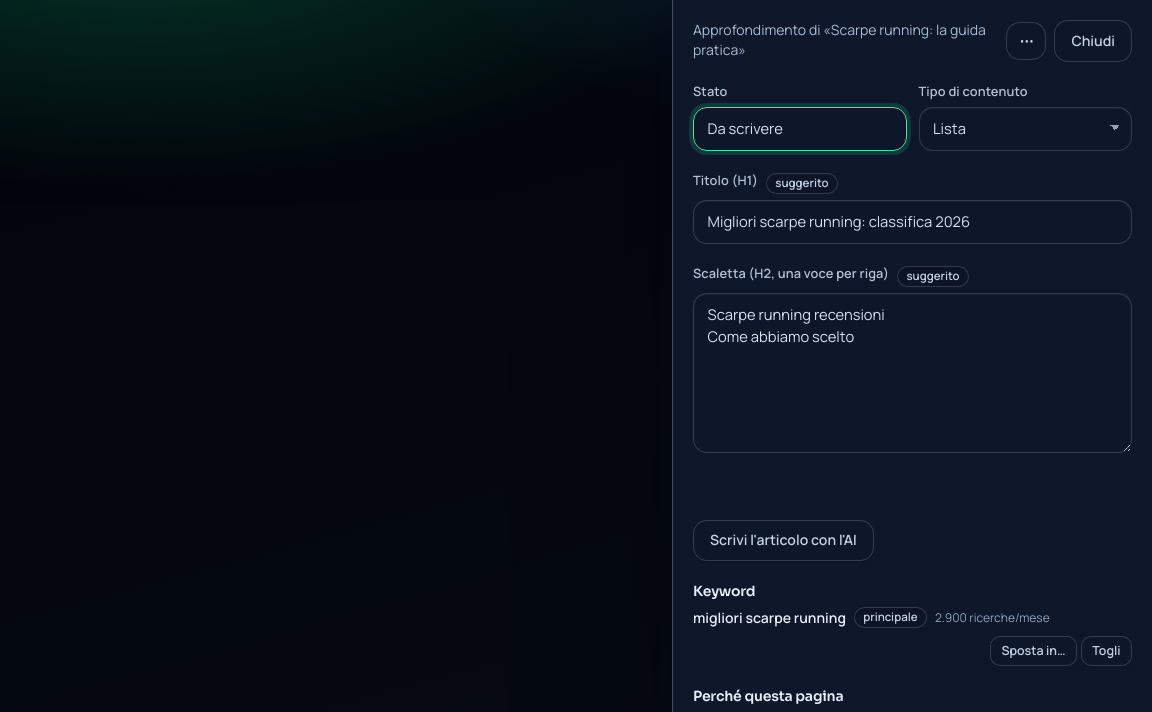
avvio dell'articolo dal pannello › con un errore resta nella finestra con il messaggio del catalogo e non apre l'editor
The image size is (1152, 712).
Click the button "Scrivi l'articolo con l'AI" at (783, 540), box [693,520,874,561]
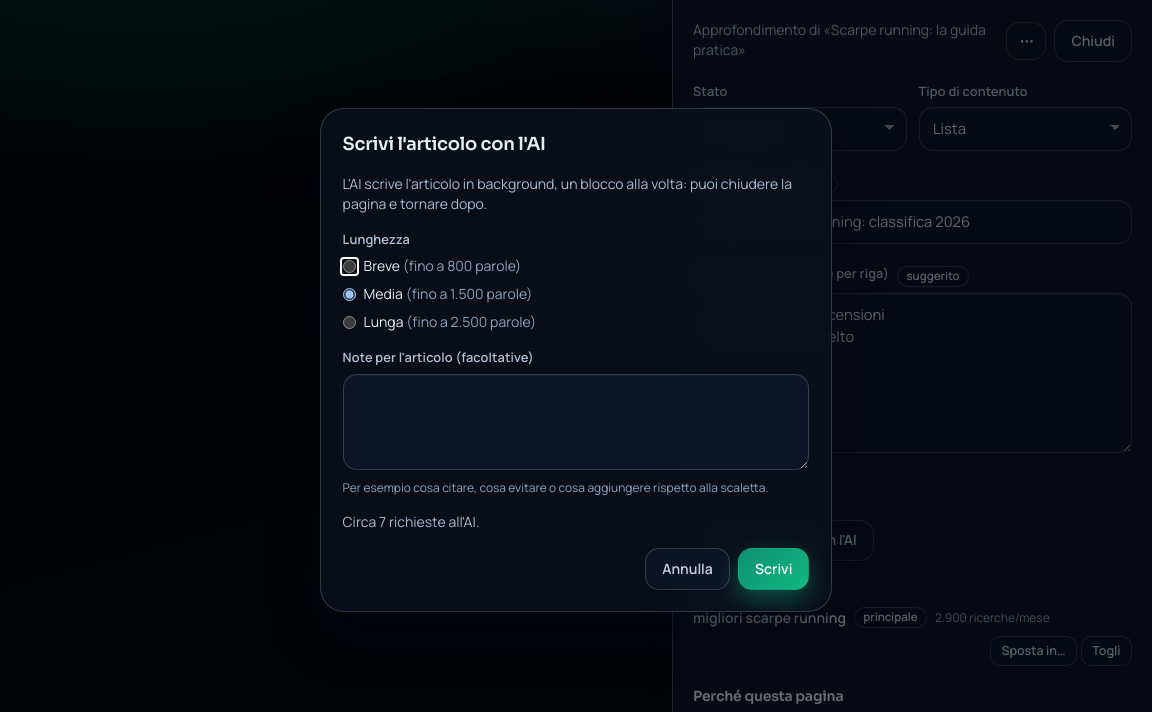
Click the button "Scrivi" at (774, 569), box [738,548,809,590]
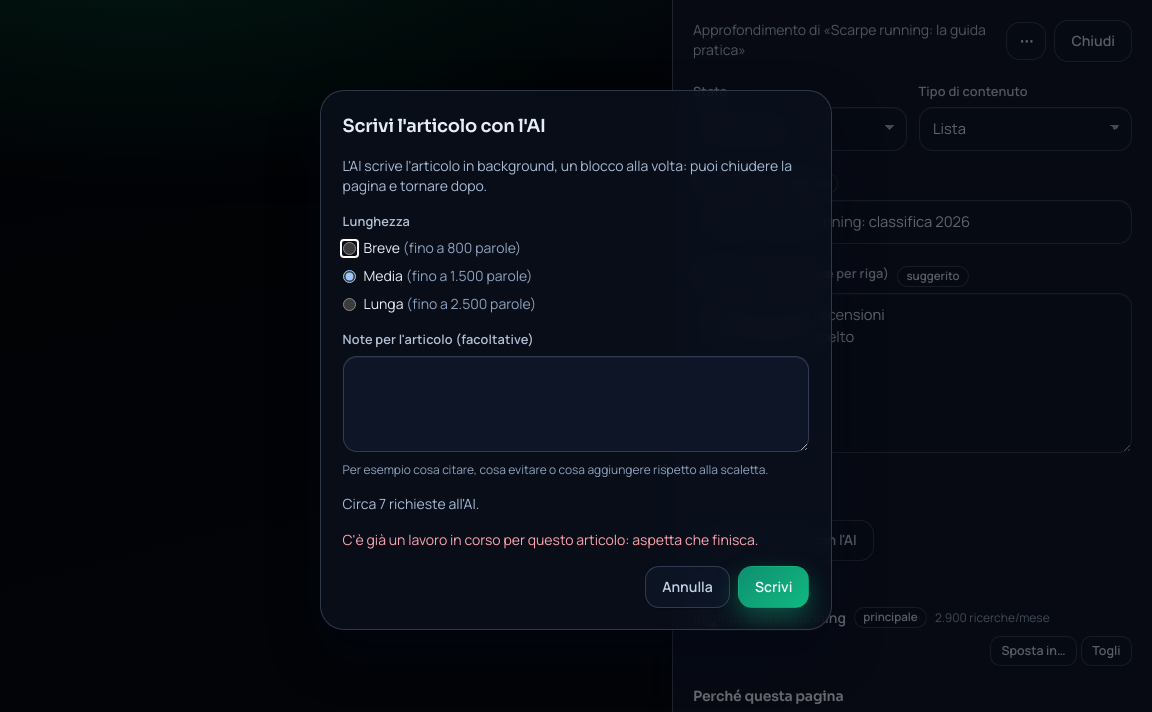
Result: the message shows "C'è già un lavoro in corso per questo articolo" at [343,530,758,549]
